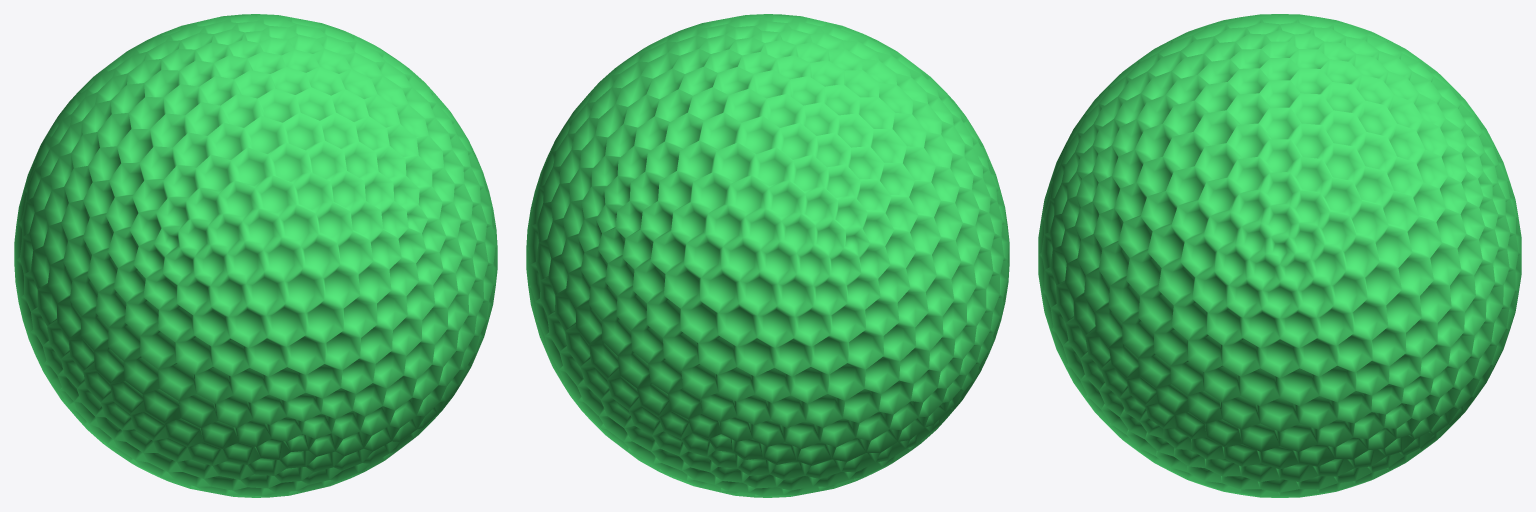
Rendered from weekgolf.glb.
3 views of the same model, side by side, from view 1: azimuth 30°, elevation 25°; view 2: azimuth 150°, elevation 25°; view 3: azimuth 270°, elevation 25° (orthographic).
Visible parts, largest first — view 1: Icosphere; view 2: Icosphere; view 3: Icosphere.
Boxes of the visible parts, x1,y1,x2,y2 form: Icosphere: [14, 14, 497, 497]; Icosphere: [526, 14, 1009, 497]; Icosphere: [1038, 14, 1521, 497].
Size of the model in its own units: 1.98 by 1.99 by 1.98.
